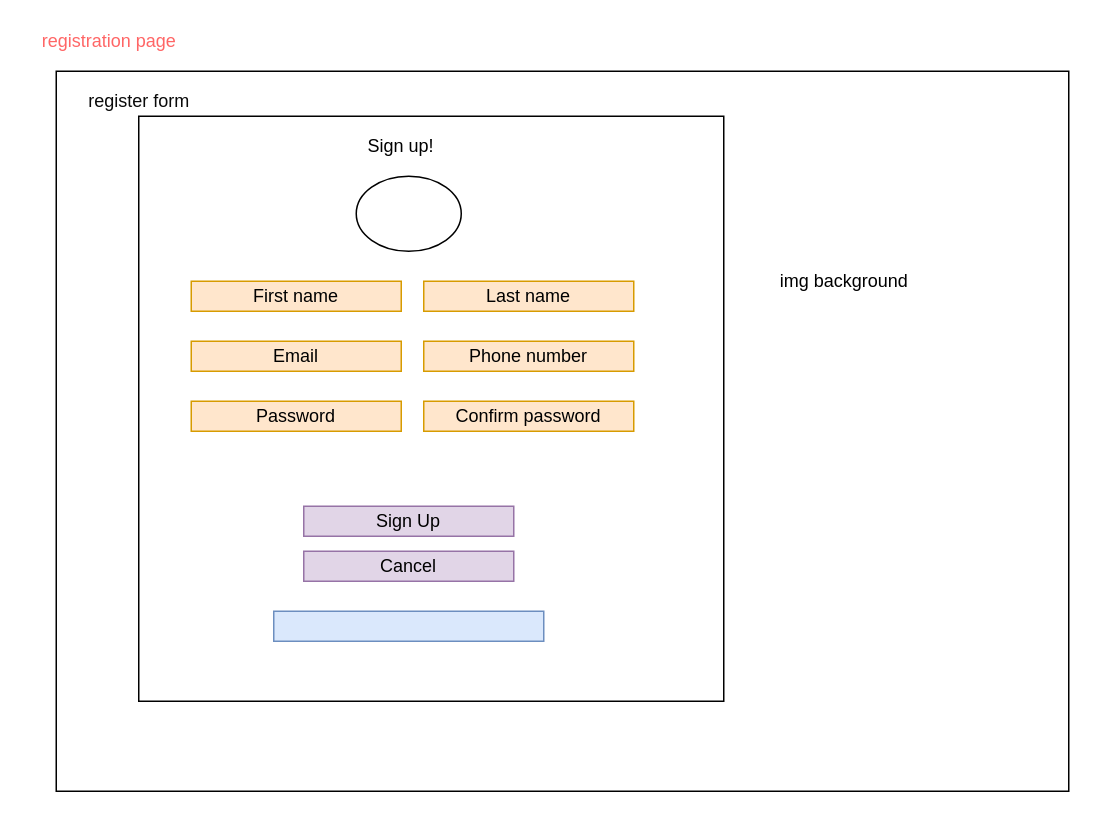
This 1095x818 diagram has some shape labels left out. The centre of each missing label's shape, as x and y in pixels:
"Already have an account? Log in" belongs at point 408,625.
"logo" belongs at point 408,213.
